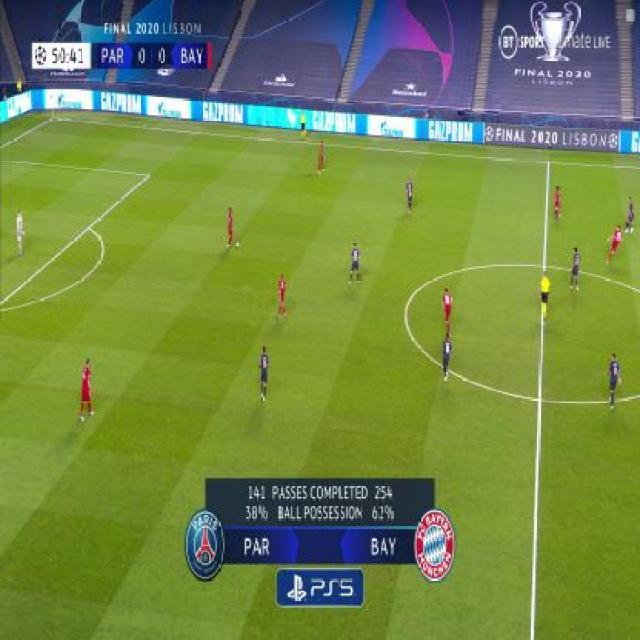ball: (235, 240, 240, 248)
player: (78, 358, 95, 420), (605, 351, 621, 411), (605, 223, 624, 265), (258, 346, 271, 402), (441, 286, 454, 340), (538, 269, 551, 323), (348, 241, 362, 286), (275, 273, 288, 319), (225, 205, 238, 250), (441, 330, 452, 381), (15, 208, 26, 259), (623, 195, 636, 234), (569, 245, 580, 291), (552, 185, 563, 224), (316, 137, 327, 174), (405, 176, 414, 216), (299, 108, 308, 141)
